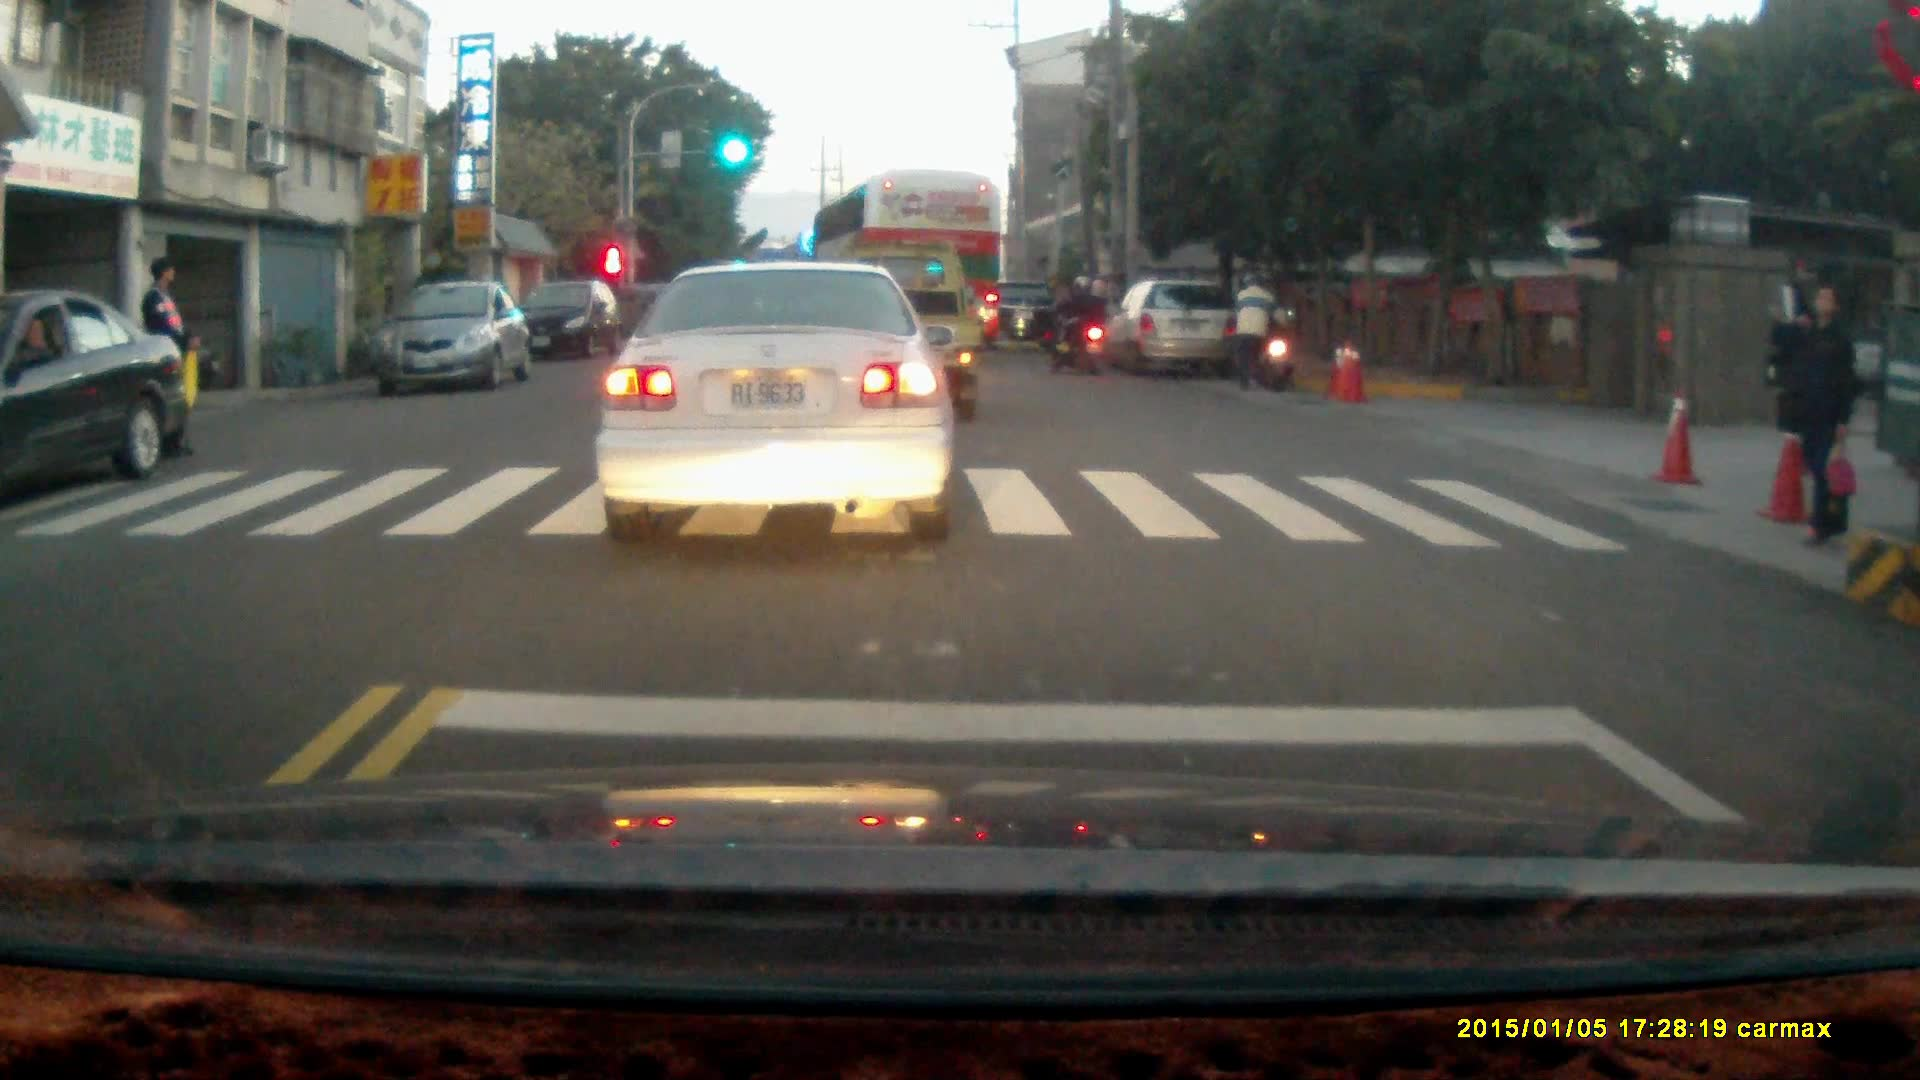pedestrian: (1778, 283, 1859, 547), (138, 256, 199, 460), (1764, 280, 1816, 473), (1232, 270, 1277, 389)
rider: (1046, 272, 1106, 381)
vehicle: (588, 260, 957, 550), (808, 171, 1006, 381), (2, 289, 184, 506), (369, 284, 529, 398), (1110, 280, 1240, 377), (514, 279, 625, 364), (981, 284, 1060, 349)
